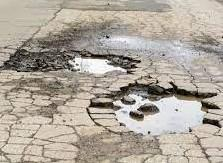alligator-crack: (0, 74, 223, 163)
pothole: (110, 82, 217, 133), (13, 50, 140, 76)
